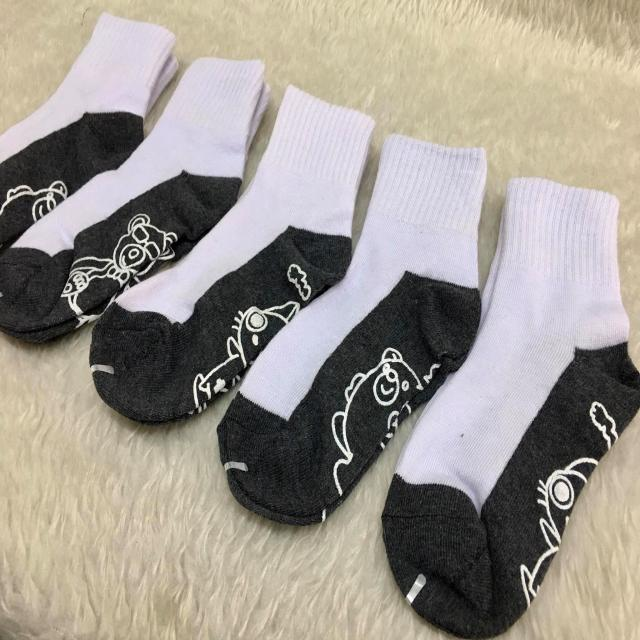sock: (381, 175, 639, 638), (217, 132, 488, 526), (88, 82, 376, 424), (0, 55, 271, 344)
